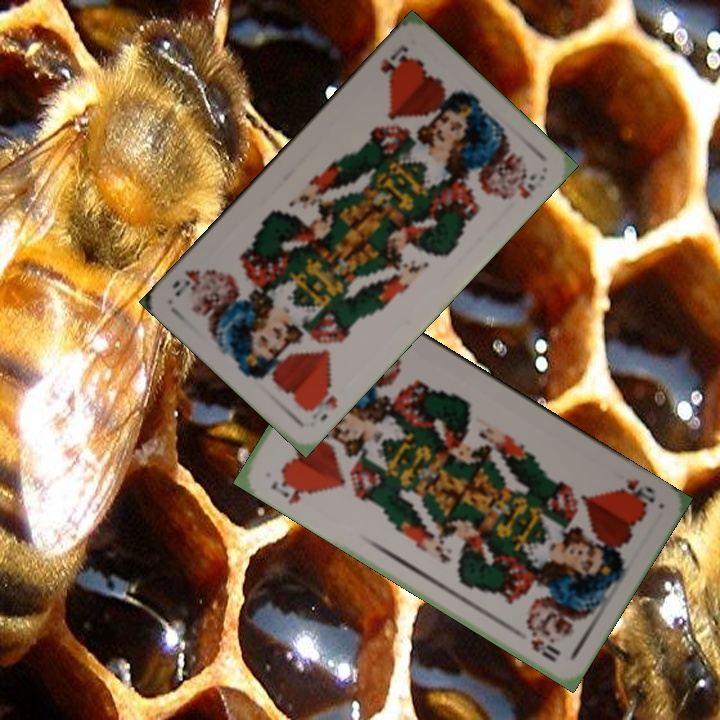HO: (302, 380, 341, 424), (266, 473, 314, 508), (376, 40, 414, 84), (612, 474, 659, 509)
